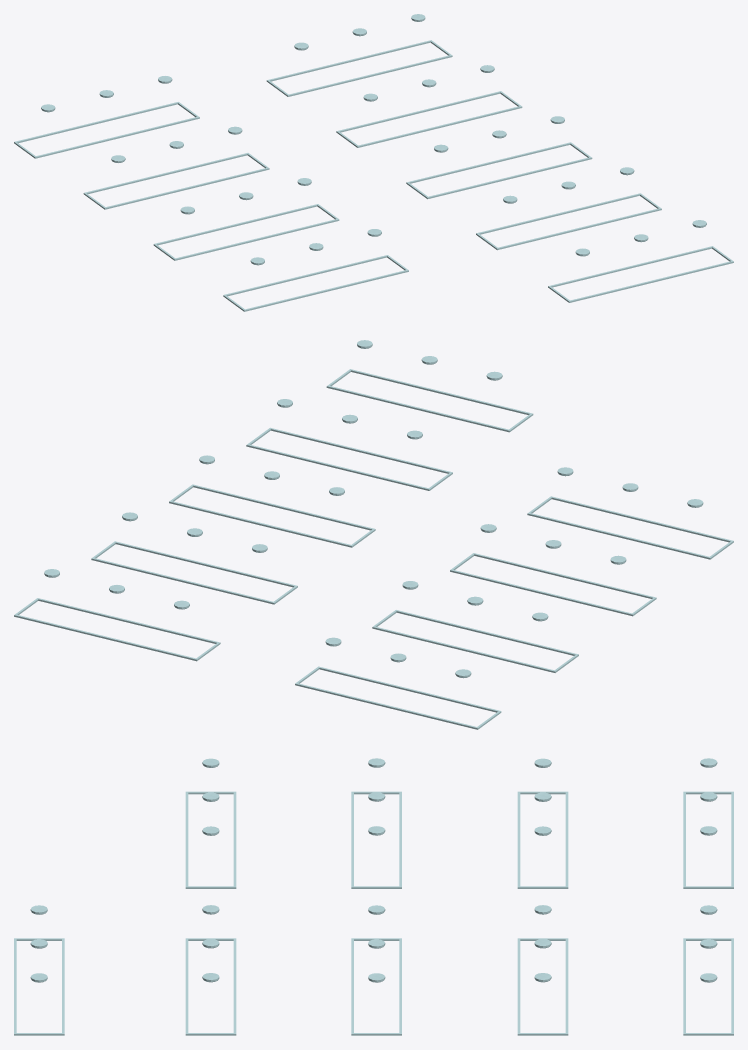
The model's file is resto_ni_teo_1.obj.
3 renders of one model, top to bottom at view 1: azimuth 30°, elevation 25°; view 2: azimuth 150°, elevation 25°; view 3: azimuth 270°, elevation 25°, orthographic. The views are drawn at different scales.
Size of the model in its own units: 7.39 by 0.6421 by 9.28.
